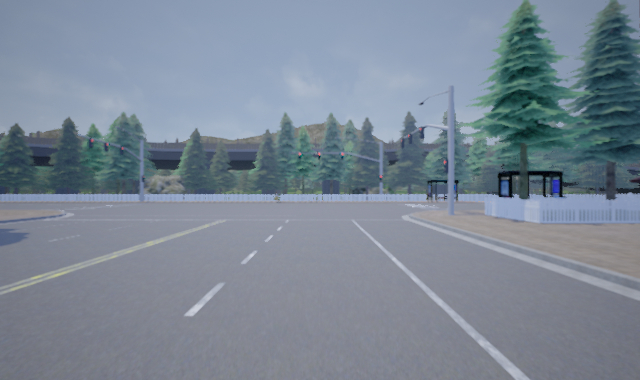traffic_light: (442, 159, 449, 175), (418, 126, 425, 140), (407, 133, 413, 144), (89, 137, 94, 149), (119, 145, 124, 157), (104, 142, 109, 152), (339, 151, 345, 159), (378, 174, 383, 183), (317, 151, 321, 161), (297, 151, 302, 159)
